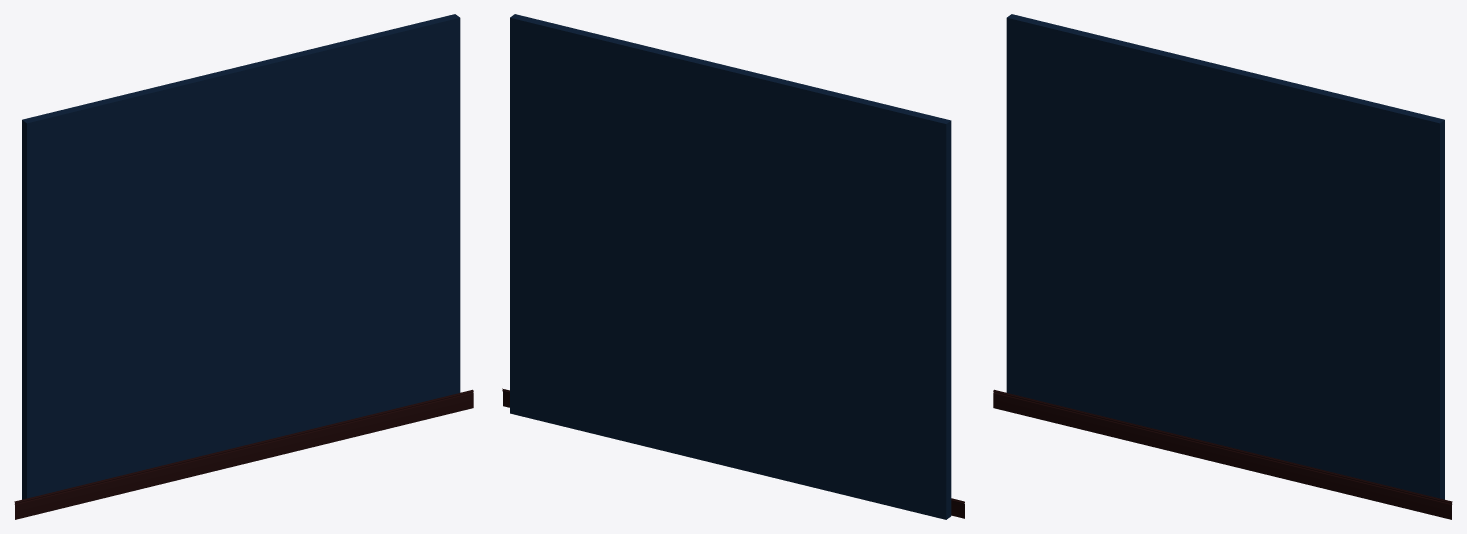
The model's file is Wall_V1.FBX.
3 views of the same model, side by side, from view 1: azimuth 30°, elevation 25°; view 2: azimuth 150°, elevation 25°; view 3: azimuth 330°, elevation 25° (orthographic).
Visible parts, largest first — view 1: Wall_V1; view 2: Wall_V1; view 3: Wall_V1.
Part boxes in pixels (box(x1,y1,x2,y2)): Wall_V1: box(14, 14, 473, 519); Wall_V1: box(502, 14, 964, 519); Wall_V1: box(993, 14, 1452, 519).
Bounding box in the file's own units: 313 × 256 × 6.8.
